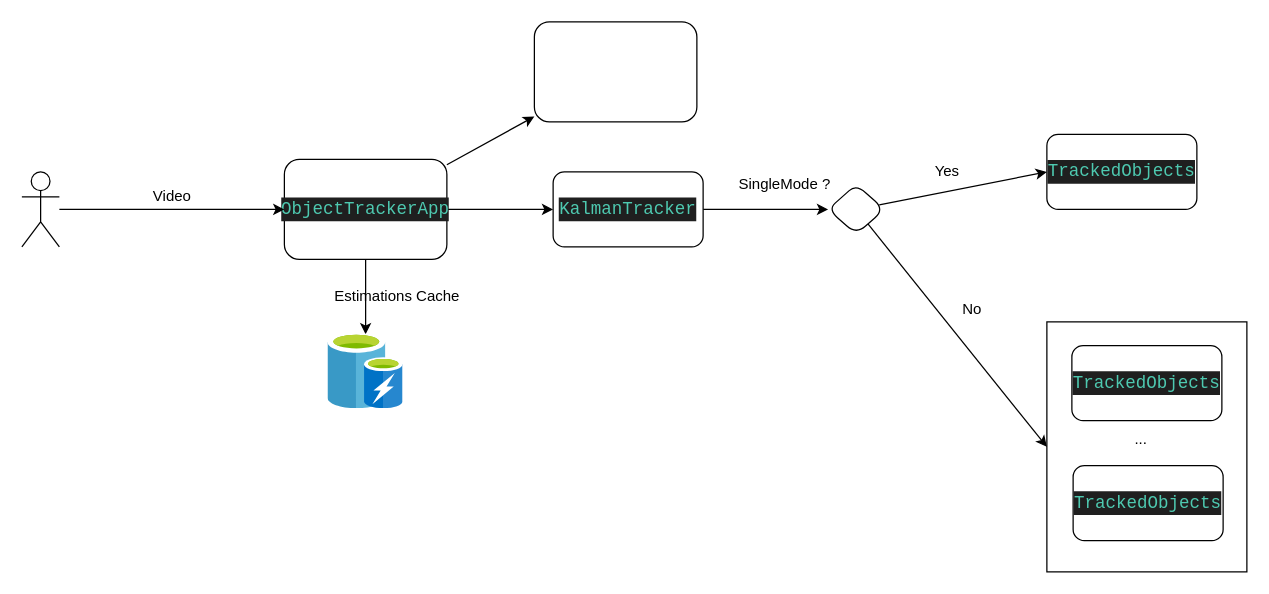
The diagram is 1269 pixels wide and 594 high, and some of its shapes have lost their labels. The centre of each missing label's shape, as x and y in pixels:
"Actor" goes at (40,209).
"Detector" goes at (615,71).
